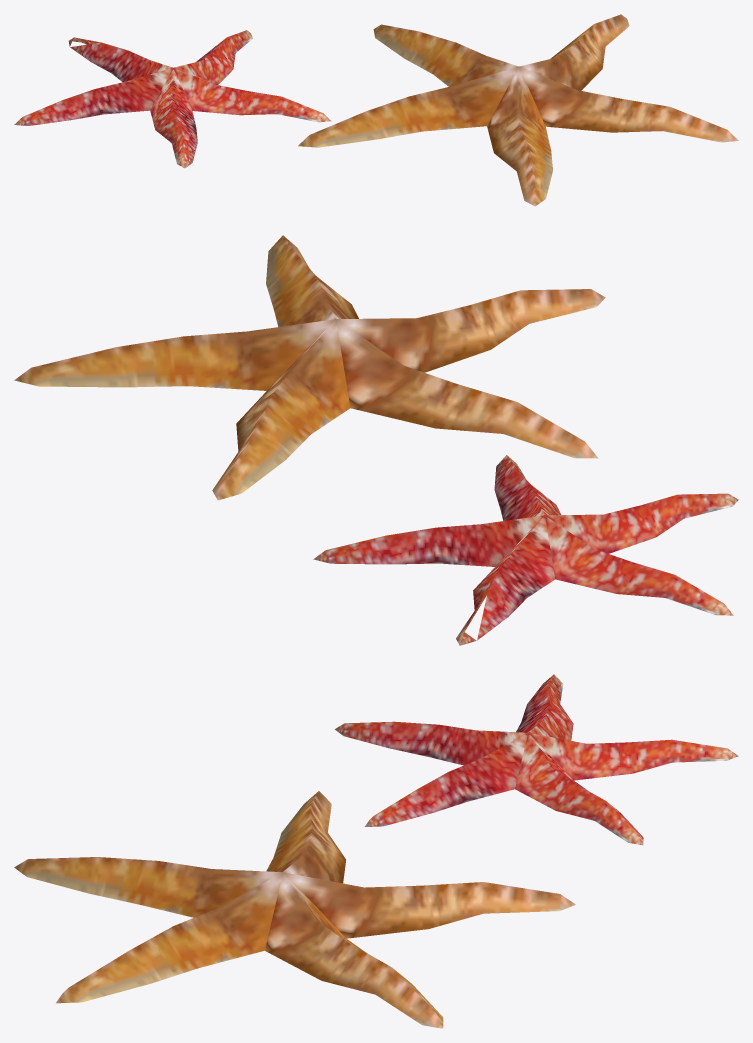
Rendered from S_Build_Sea029_A1.FBX.
3 views of the same model, one above another, from view 1: azimuth 30°, elevation 25°; view 2: azimuth 150°, elevation 25°; view 3: azimuth 270°, elevation 25° (orthographic). The views are drawn at different scales.
Parts seen in each view (by area): view 1: S_Build_Sea029_A1; view 2: S_Build_Sea029_A1; view 3: S_Build_Sea029_A1.
Boxes of the visible parts, bbox=[...] form: S_Build_Sea029_A1: bbox=[14, 14, 738, 206]; S_Build_Sea029_A1: bbox=[14, 235, 738, 645]; S_Build_Sea029_A1: bbox=[14, 674, 738, 1028].
Size of the model in its own units: 154 by 10.41 by 134.
Materials: 1 (1 with a texture image).
